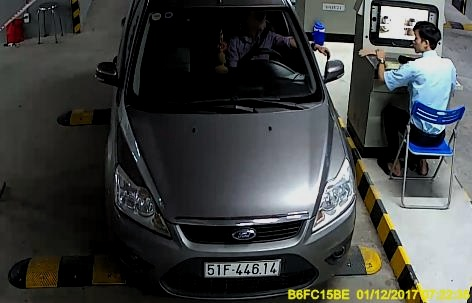plate: (202, 257, 281, 280)
